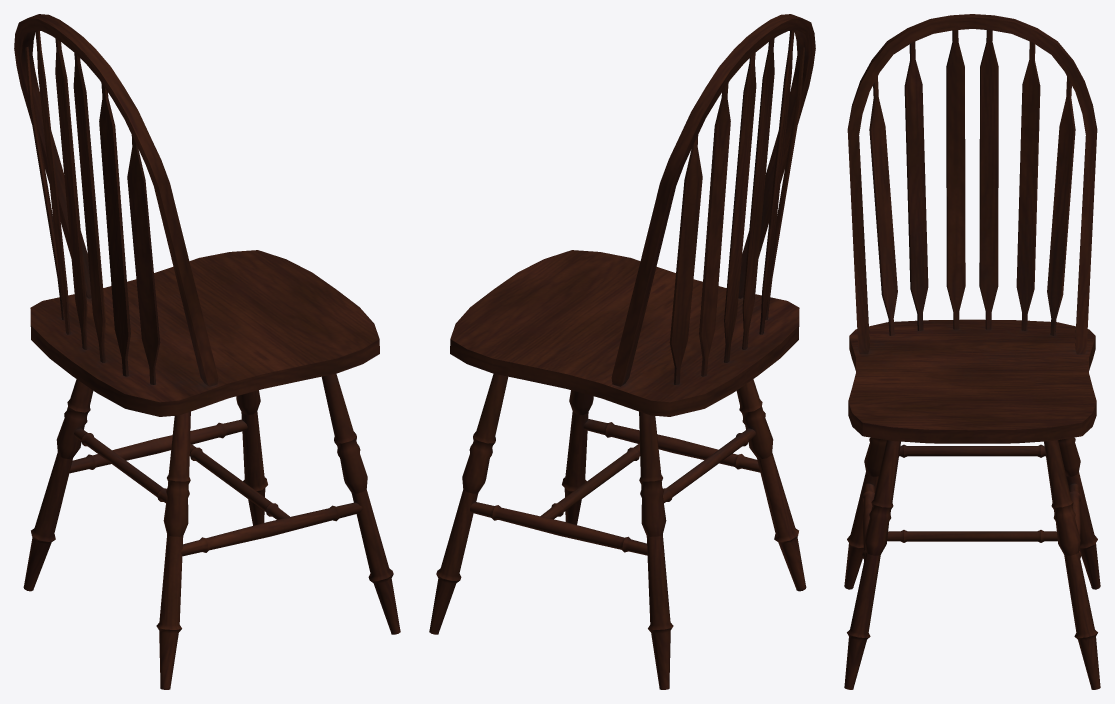
File: kitchen_table_chair.fbx
3 views of the same model, side by side, from view 1: azimuth 30°, elevation 25°; view 2: azimuth 150°, elevation 25°; view 3: azimuth 270°, elevation 25° (orthographic). The views are drawn at different scales.
Parts seen in each view (by area): view 1: table lowpoly.001; view 2: table lowpoly.001; view 3: table lowpoly.001.
Part boxes in pixels (bbox=[...]): table lowpoly.001: bbox=[14, 14, 400, 689]; table lowpoly.001: bbox=[429, 14, 815, 689]; table lowpoly.001: bbox=[844, 14, 1100, 689].
Bounding box in the file's own units: 63.71 × 136 × 56.53.
